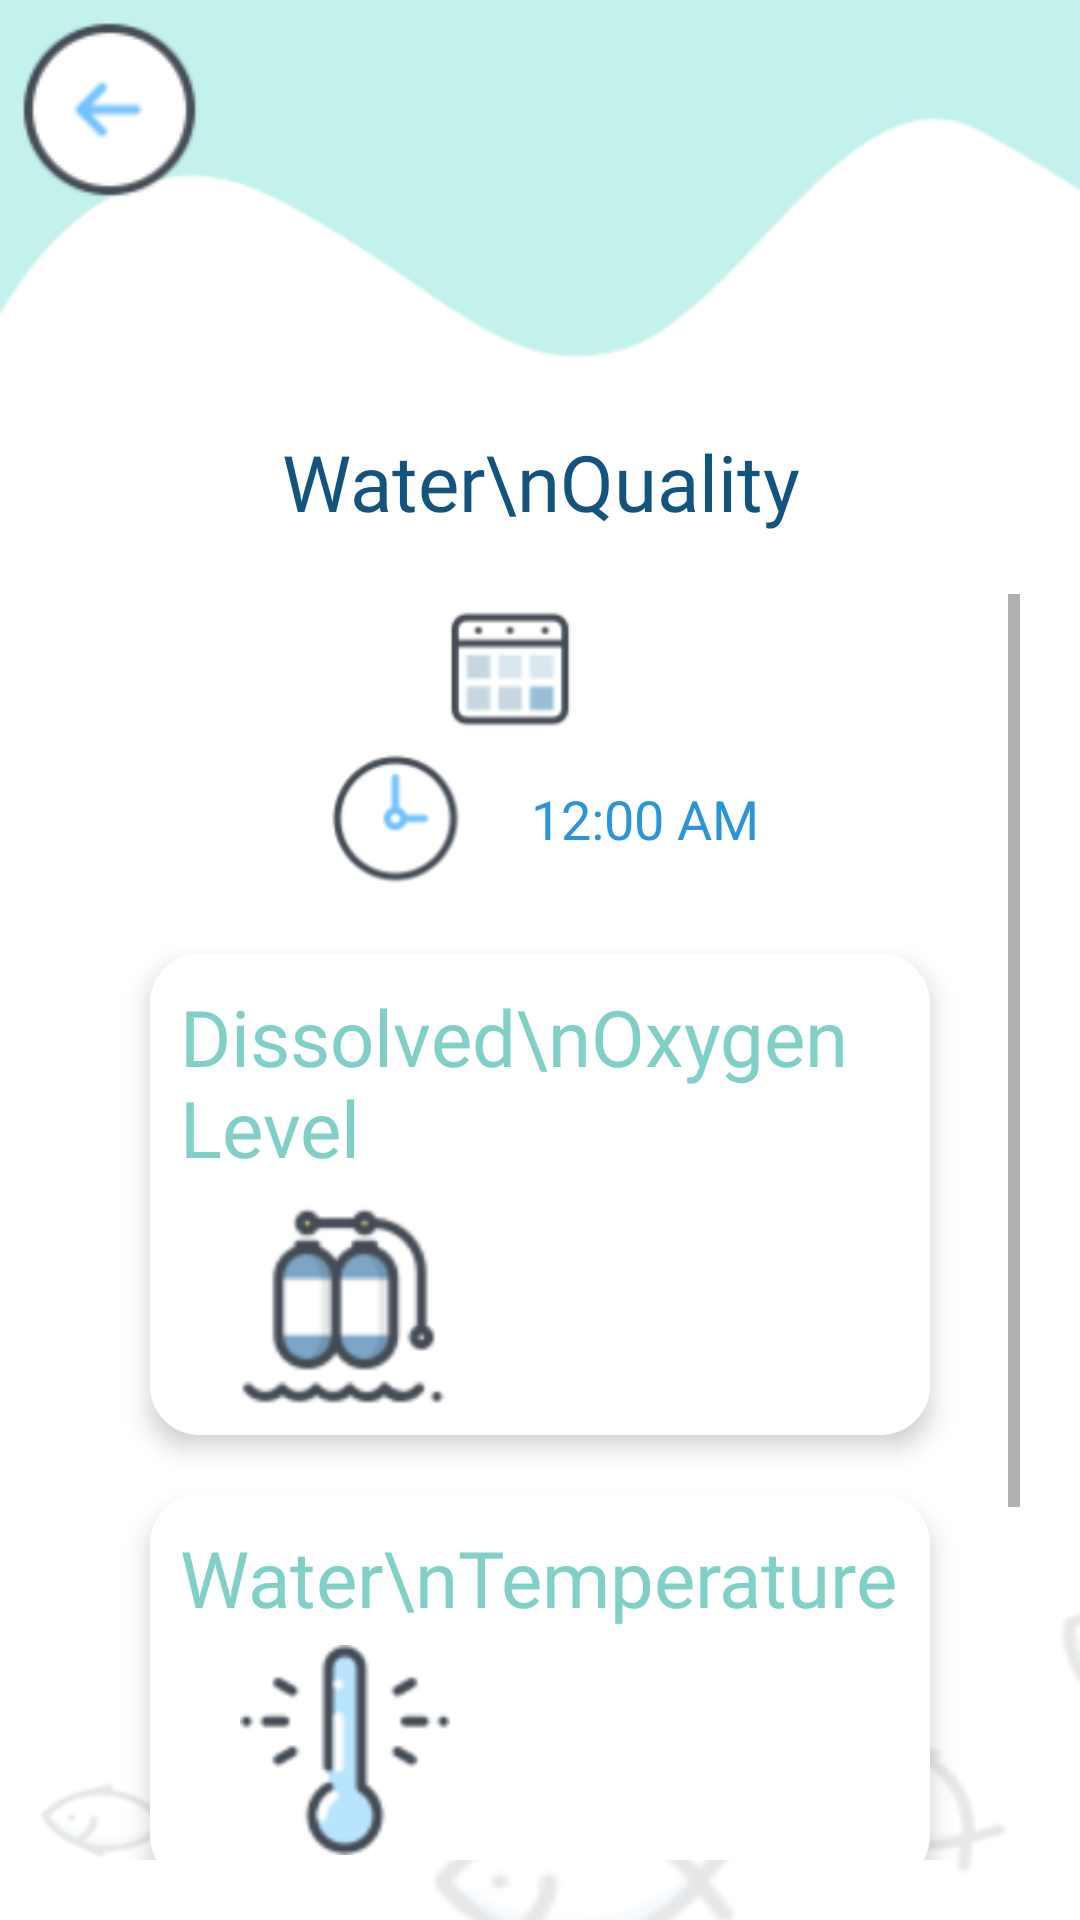

Icons on this 1080w x 1920h Android screen, each with the point to tap as [x,y]:
back: [113,113]
clock: [395,818]
date: [510,669]
